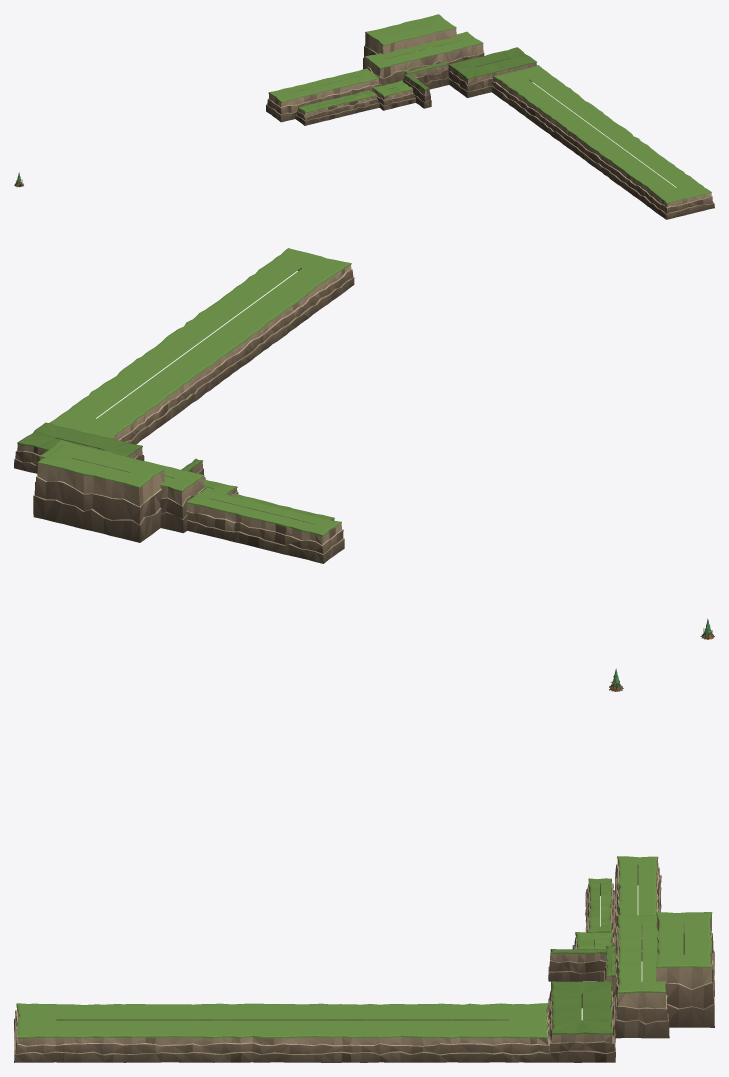
The model's file is hunt.glb.
3 renders of one model, top to bottom at view 1: azimuth 30°, elevation 25°; view 2: azimuth 150°, elevation 25°; view 3: azimuth 270°, elevation 25°, orthographic. The views are drawn at different scales.
Parts seen in each view (by area): view 1: cliffs_e, cliffs_v, cliffs_n; view 2: cliffs_e, cliffs_v, cliffs_n; view 3: cliffs_e, cliffs_v, cliffs_n.
Boxes of the visible parts, left/top/right/bottom form: cliffs_e: left=491, top=65, right=714, bottom=219; cliffs_v: left=363, top=14, right=536, bottom=108; cliffs_n: left=266, top=68, right=415, bottom=125; cliffs_e: left=49, top=248, right=354, bottom=444; cliffs_v: left=14, top=422, right=205, bottom=542; cliffs_n: left=186, top=479, right=344, bottom=563; cliffs_e: left=14, top=1003, right=551, bottom=1062; cliffs_v: left=548, top=912, right=714, bottom=1062; cliffs_n: left=572, top=856, right=661, bottom=960.
Bounding box in the file's own units: 216 × 16.5 × 170.
